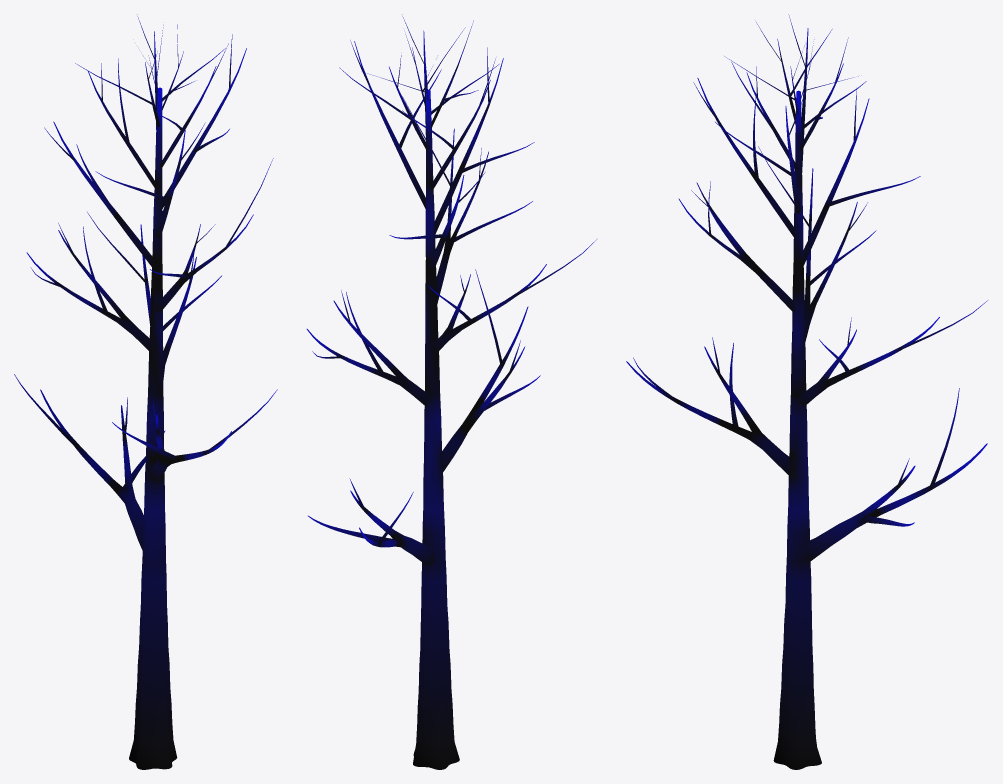
Rendered from Birch Trunk 003.fbx.
3 renders of one model, left to right at view 1: azimuth 30°, elevation 25°; view 2: azimuth 150°, elevation 25°; view 3: azimuth 270°, elevation 25°, orthographic.
Parts seen in each view (by area): view 1: Birch_Trunk_003_LOD0; view 2: Birch_Trunk_003_LOD0; view 3: Birch_Trunk_003_LOD0.
Part boxes in pixels (box(x1,y1,x2,y2)): Birch_Trunk_003_LOD0: box(14, 16, 277, 769); Birch_Trunk_003_LOD0: box(306, 16, 596, 769); Birch_Trunk_003_LOD0: box(626, 14, 987, 769).
Size of what is drawn, in the model's own units: 360 by 1093 by 490.
